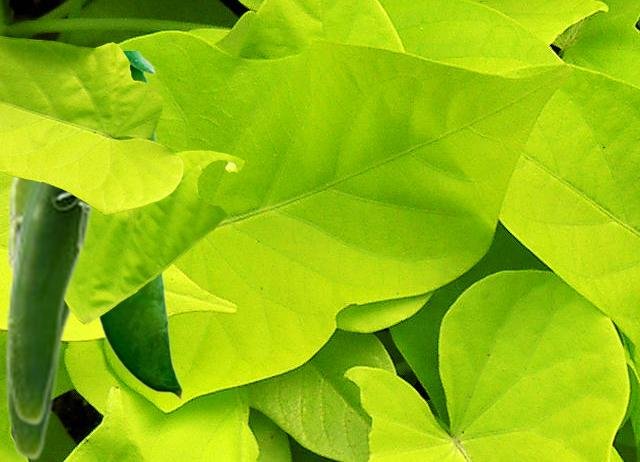pea: (96, 51, 182, 400), (5, 175, 97, 425), (4, 213, 74, 460)
